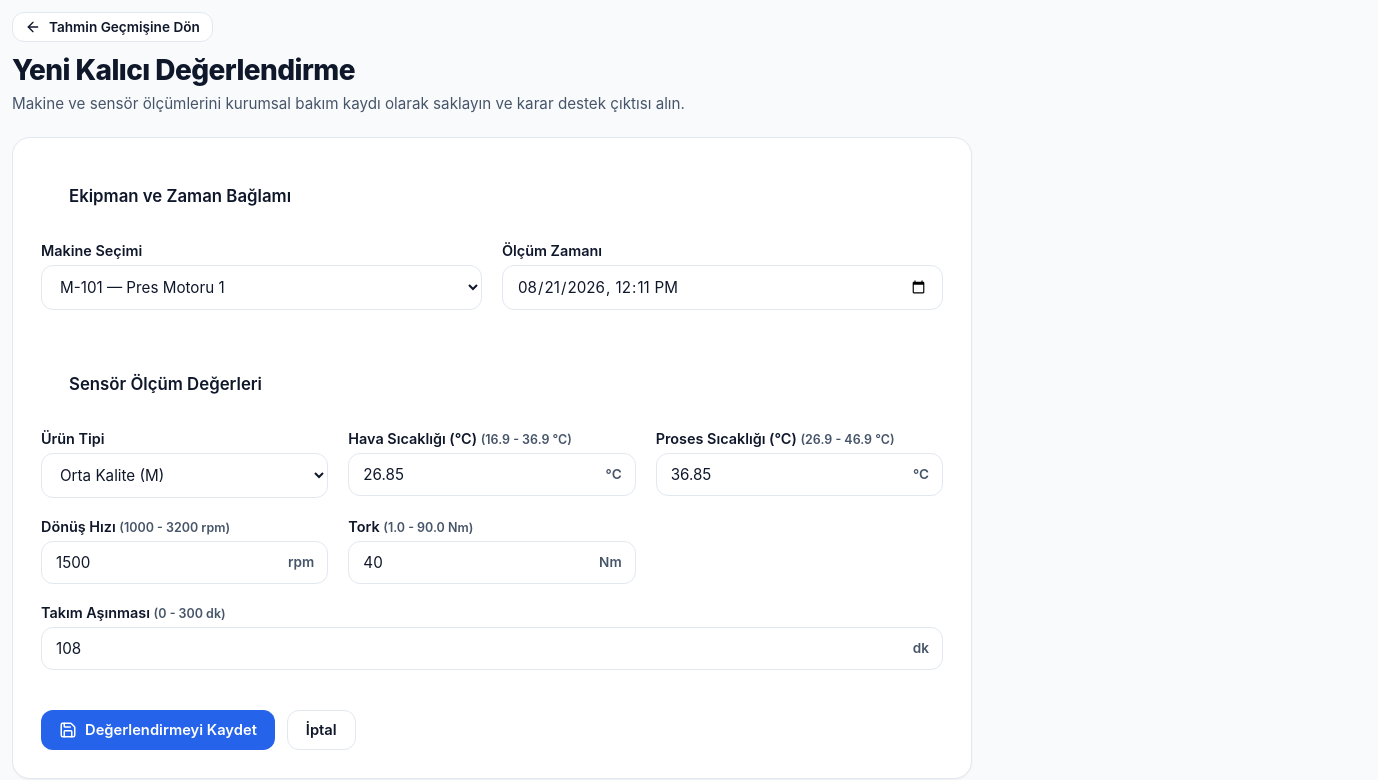
Test case: KaliciDegerlendirme › 409 çakışma hatasında kullanıcı dostu mesaj gösterir
Click the button "Değerlendirmeyi Kaydet": coordinates (158, 730) [41, 710, 275, 750]
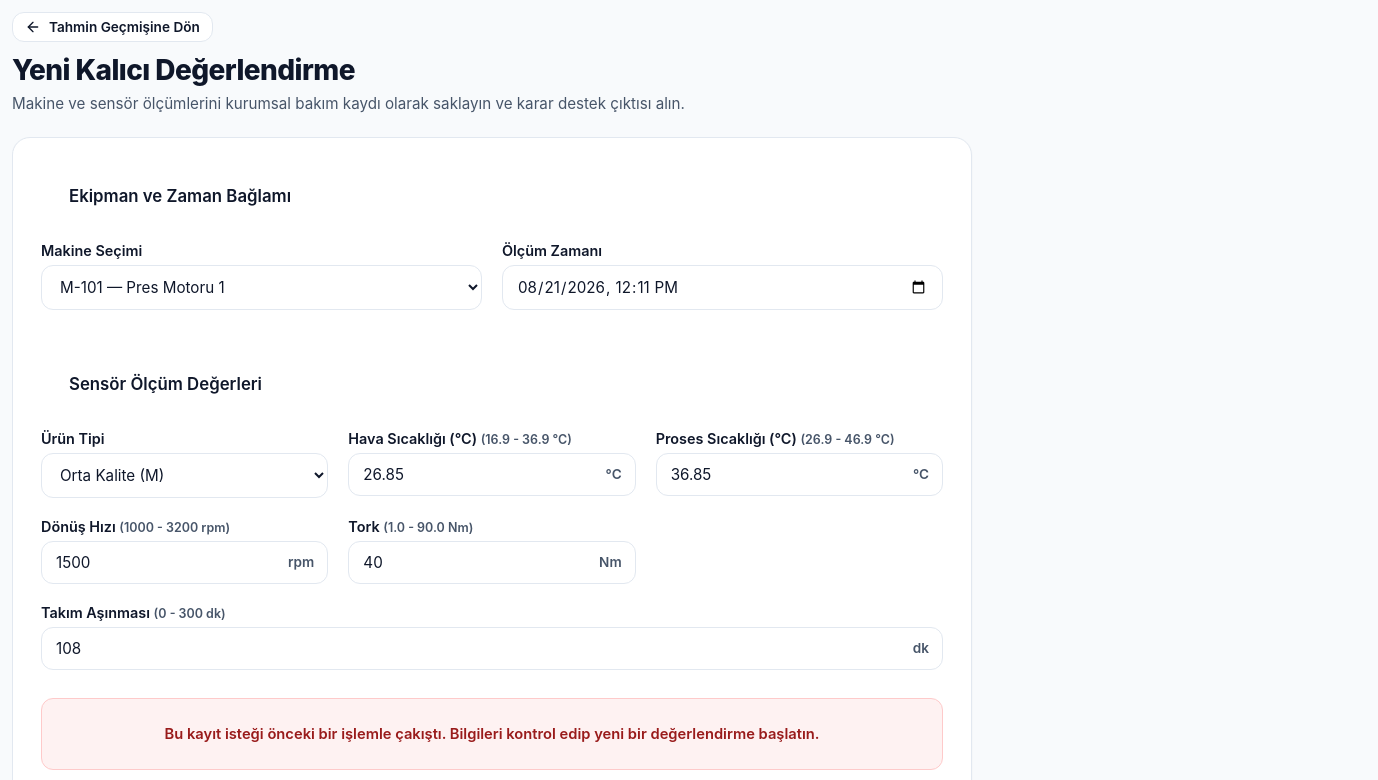
Expected: the text "Bu kayıt isteği önceki bir işlemle çakıştı. Bilgileri kontrol edip yeni bir değerlendirme başlatın." is shown, [164, 725, 820, 743]
